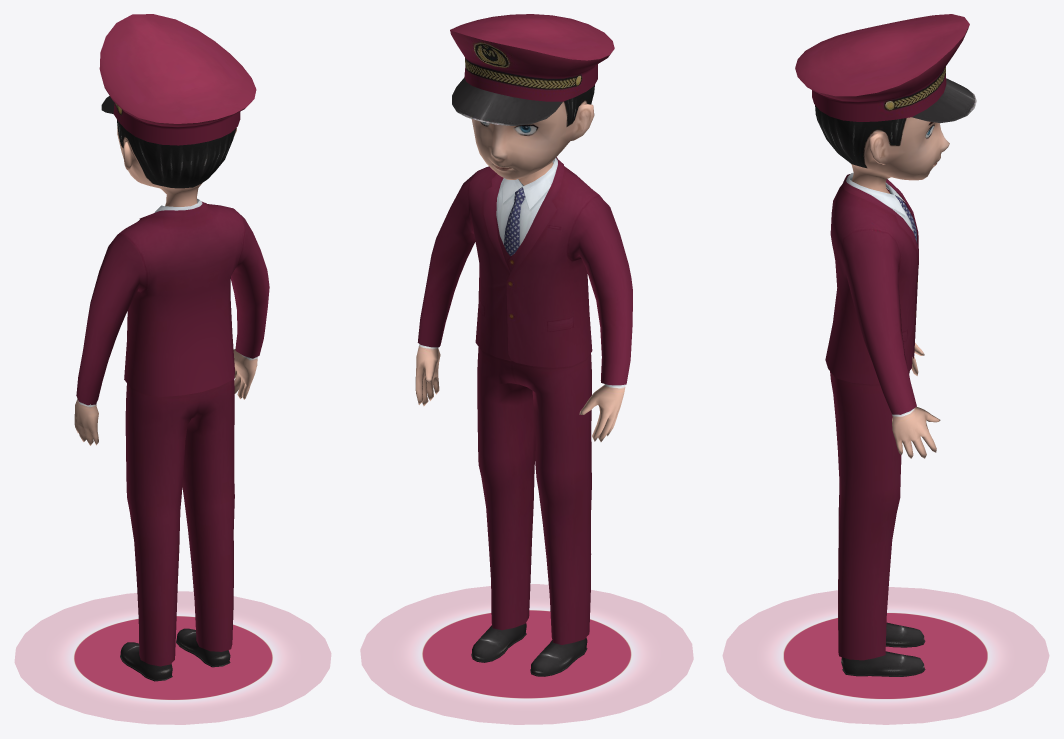
3 views of the same model, side by side, from view 1: azimuth 30°, elevation 25°; view 2: azimuth 150°, elevation 25°; view 3: azimuth 270°, elevation 25° (orthographic). The views are drawn at different scales.
Visible parts, largest first — view 1: 工作人员男001, 红色图标002; view 2: 工作人员男001, 红色图标002; view 3: 工作人员男001, 红色图标002.
Part boxes in pixels (x1,y1,x2,y2): 工作人员男001: [74, 14, 269, 681]; 红色图标002: [15, 591, 330, 724]; 工作人员男001: [415, 14, 632, 676]; 红色图标002: [360, 584, 693, 724]; 工作人员男001: [795, 14, 976, 676]; 红色图标002: [723, 587, 1048, 724].
Size of the model in its own units: 1 by 2.14 by 1.
Materials: 2 (2 with a texture image).
